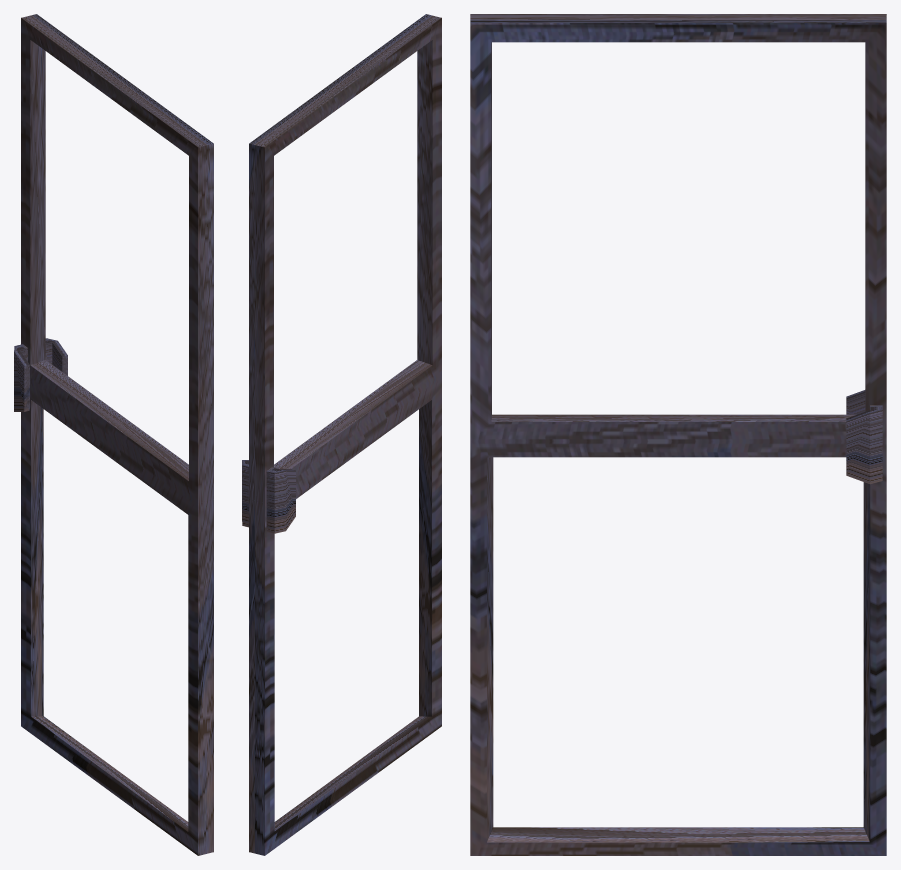
The model's file is SM_resdoor.fbx.
3 views of the same model, side by side, from view 1: azimuth 30°, elevation 25°; view 2: azimuth 150°, elevation 25°; view 3: azimuth 270°, elevation 25° (orthographic). The views are drawn at different scales.
Visible parts, largest first — view 1: SM_resdoorFRNT; view 2: SM_resdoorFRNT; view 3: SM_resdoorFRNT.
Boxes of the visible parts, x1,y1,x2,y2 form: SM_resdoorFRNT: (14, 14, 213, 855); SM_resdoorFRNT: (242, 14, 441, 855); SM_resdoorFRNT: (470, 14, 886, 855).
Bounding box in the file's own units: 12.17 × 188 × 85.05.
